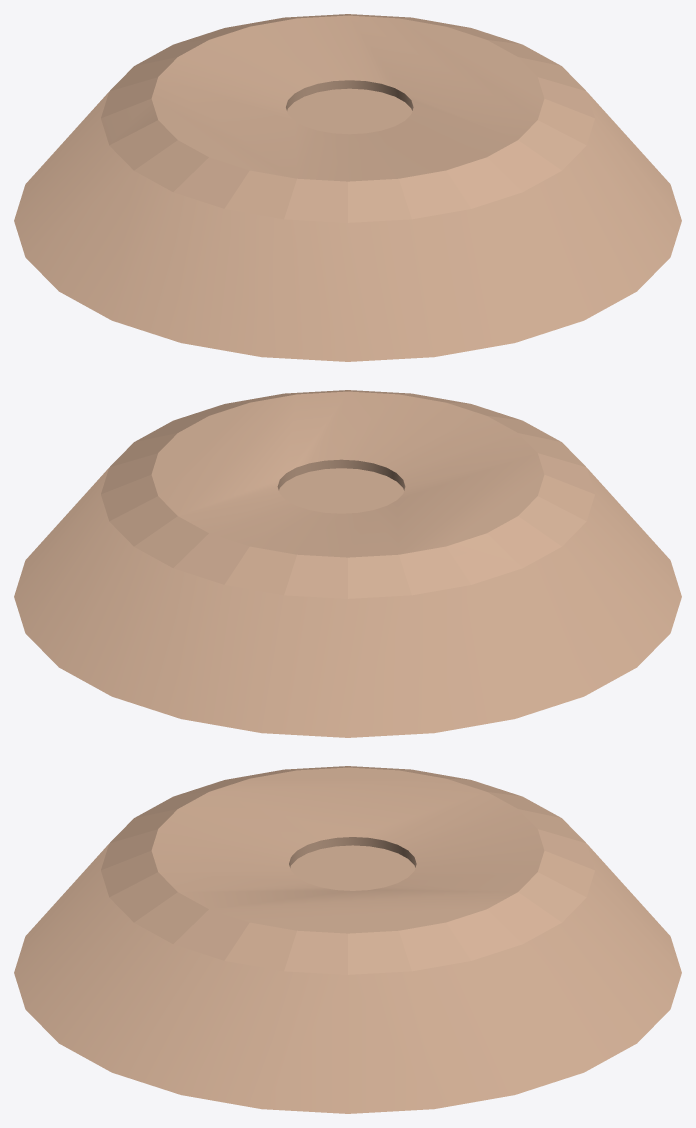
File: anthill2blend.fbx
The picture shows the model from 3 angles, top to bottom: view 1: azimuth 30°, elevation 25°; view 2: azimuth 150°, elevation 25°; view 3: azimuth 270°, elevation 25°; orthographic projection.
Visible parts, largest first — view 1: anthill.model; view 2: anthill.model; view 3: anthill.model.
Boxes of the visible parts, box(x1,y1,x2,y2) form: anthill.model: box(14, 14, 681, 361); anthill.model: box(14, 390, 681, 737); anthill.model: box(14, 766, 681, 1113).
Bounding box in the file's own units: 68 × 13.73 × 68.
